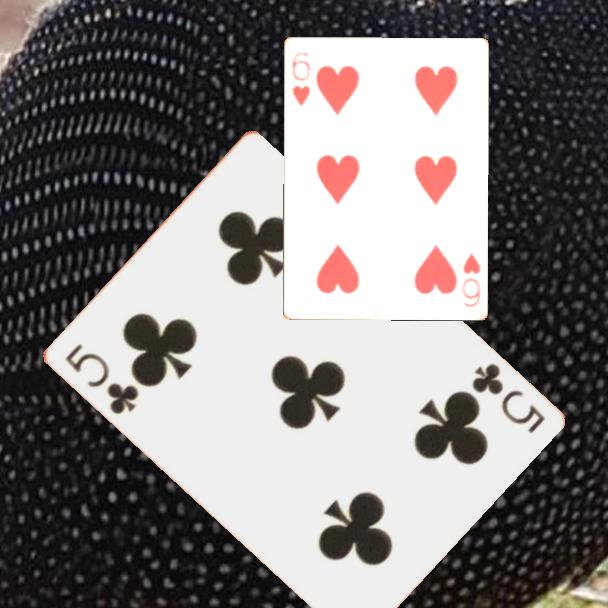c05: (60, 340, 141, 418), (467, 359, 548, 436)
h06: (288, 48, 313, 109), (458, 249, 483, 309)
